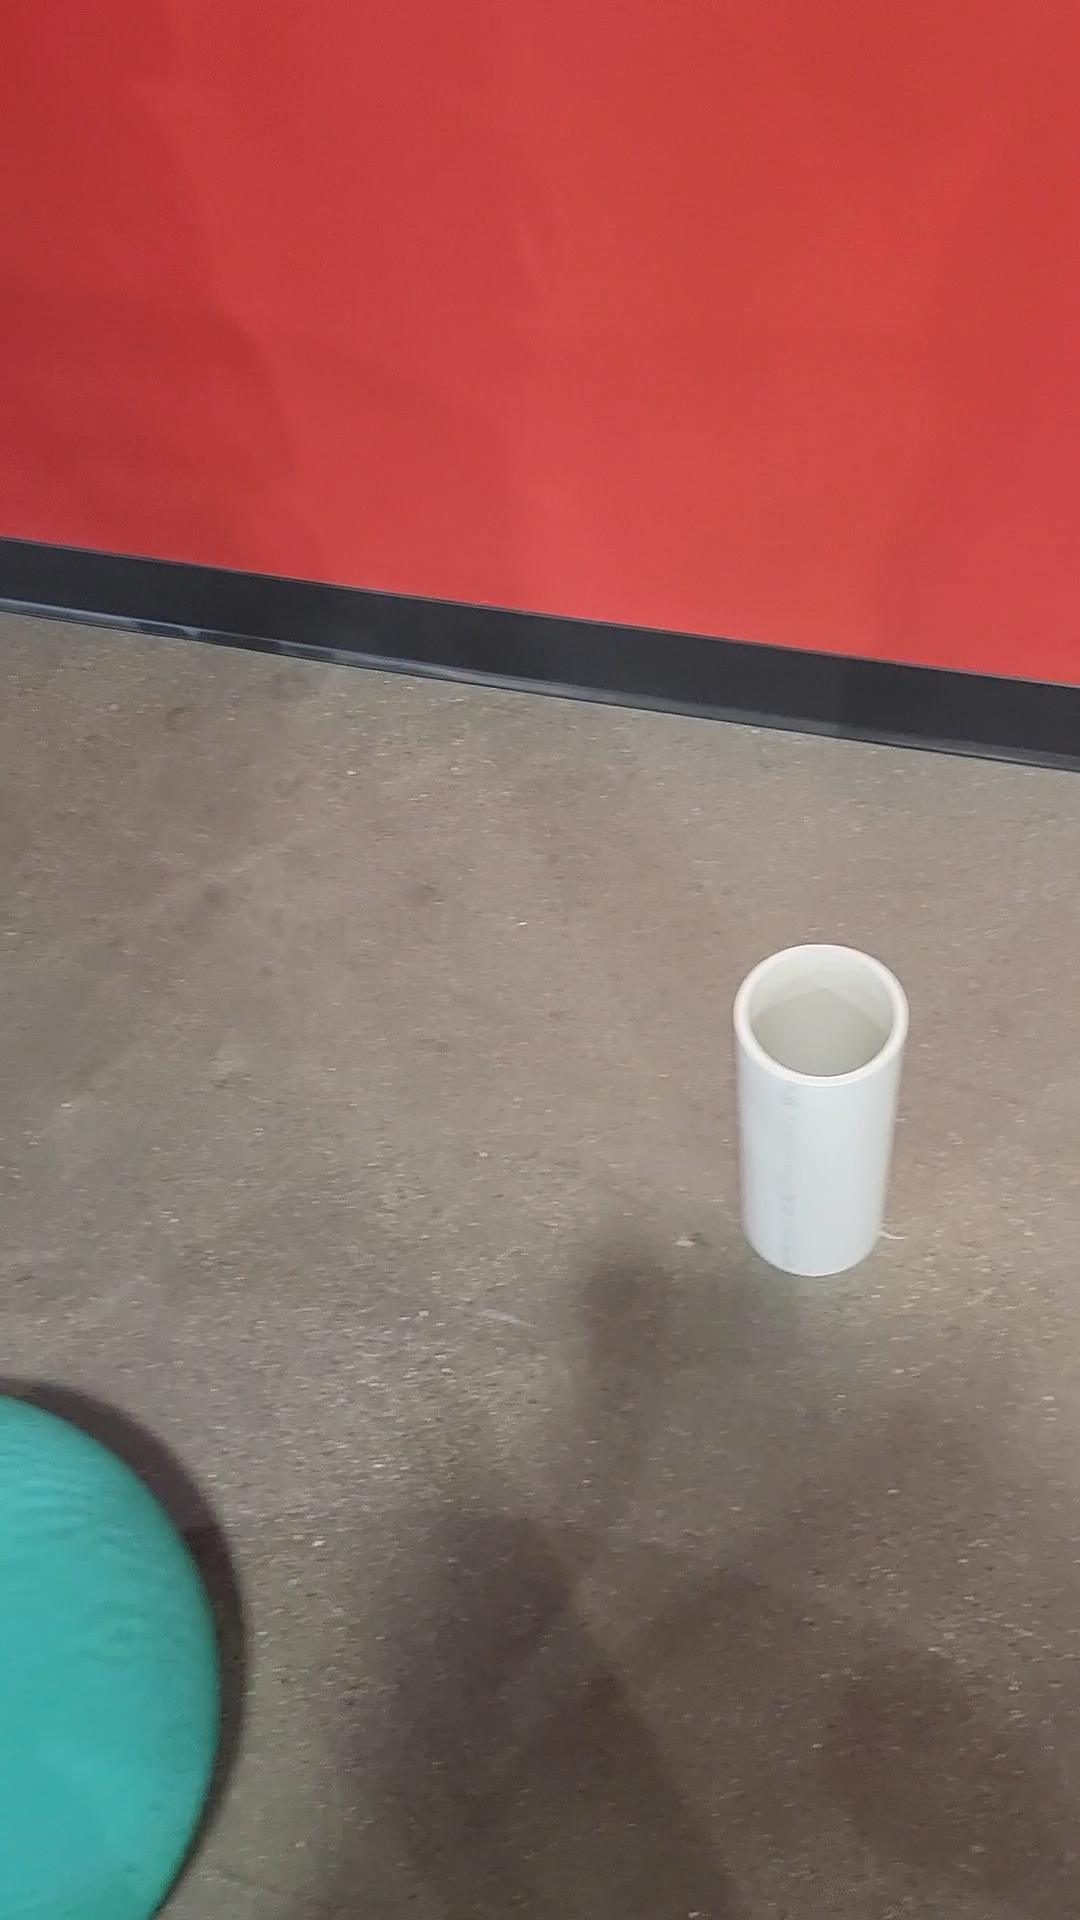algae: (0, 1389, 223, 1920)
coral: (732, 943, 909, 1279)
